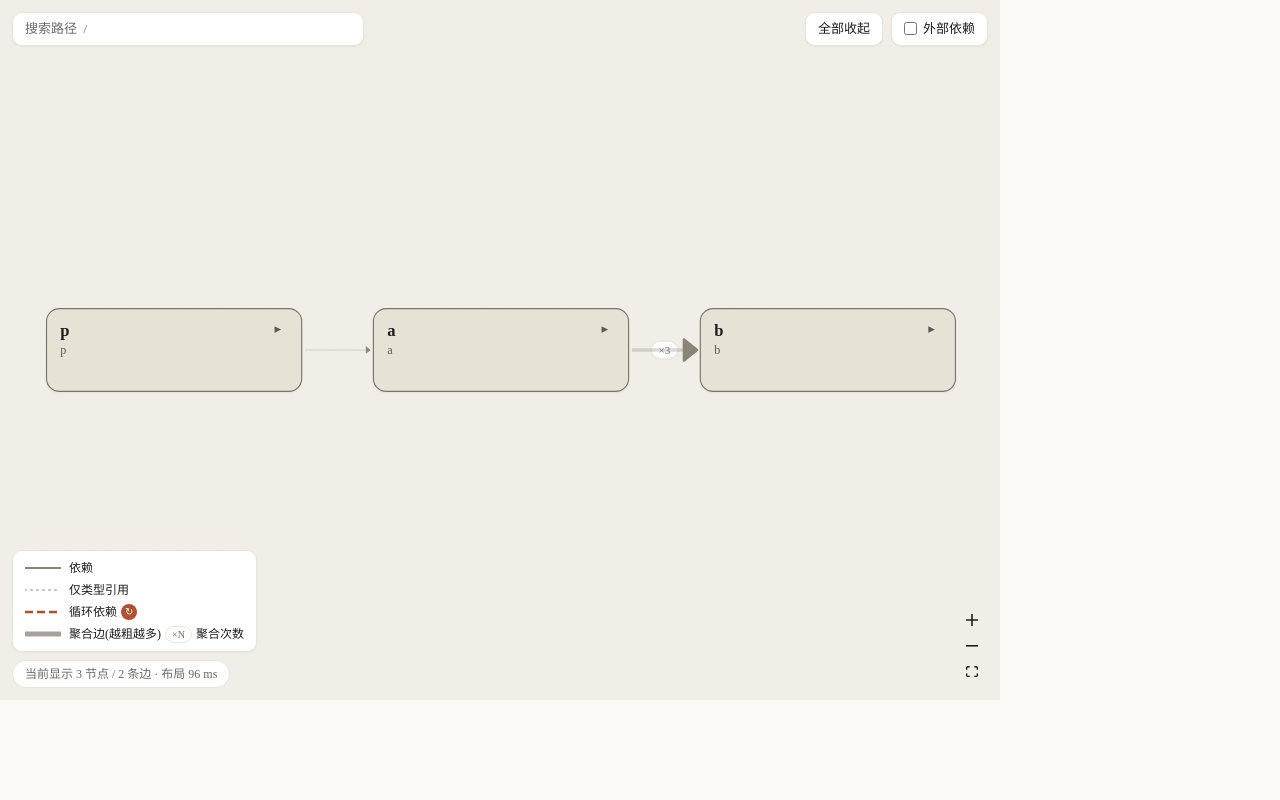
Test: <GraphView> 真实接口:聚合边、边界节点、截断提示 › 展开后用子层聚合边替代容器边;边界节点不进容器;折叠后恢复;截断提示只在该层可见时显示
Expected: the message shows "当前显示 3 节点 / 2 条边", [25, 667, 217, 681]
Expected: the element named "图例" shows "聚合次数", [196, 627, 244, 641]
Click the button named "展开 a" at x=605, y=329, box [595, 320, 615, 338]
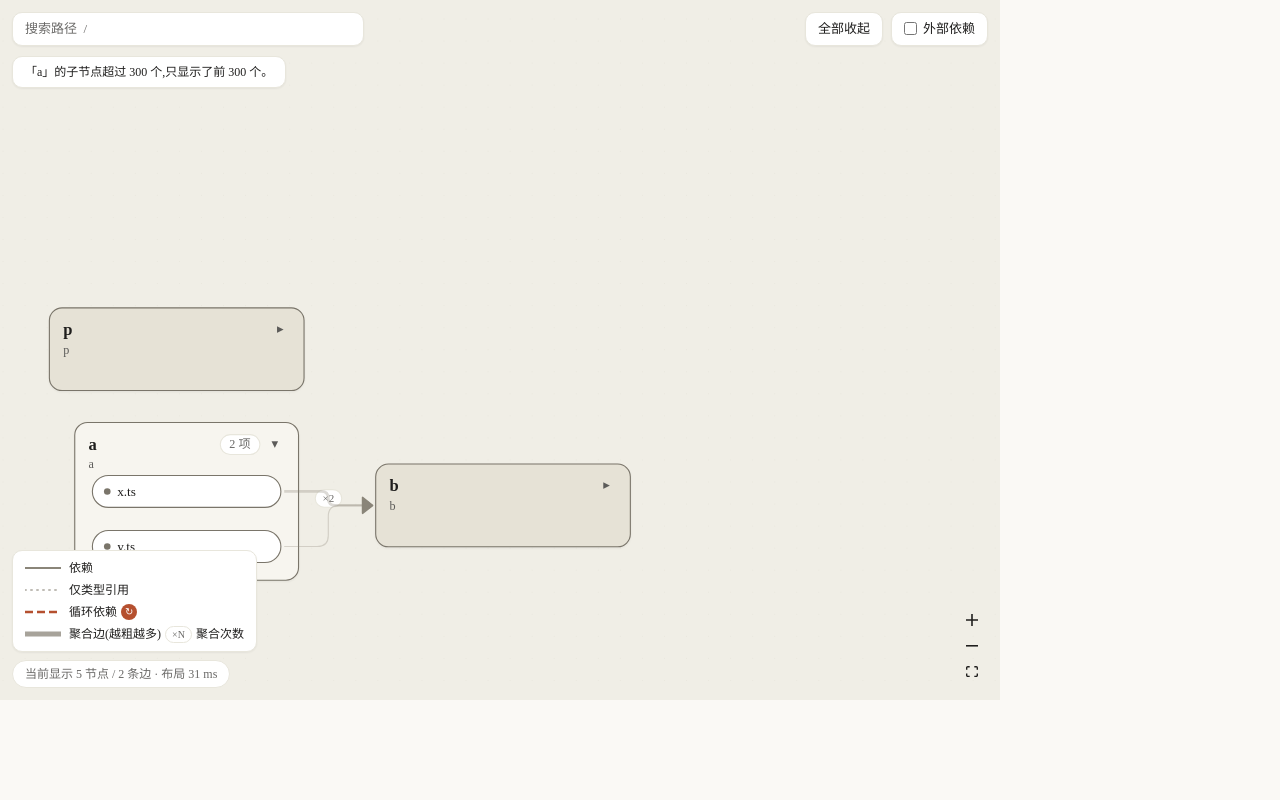
Expected: the number of elements with test id "node-m:b" is 1, [375, 464, 631, 547]
Expected: the message shows "当前显示 5 节点 / 2 条边", [25, 667, 217, 681]
Expected: the text with test id "truncated-notice" shows "「a」的子节点超过 300 个", [12, 56, 286, 88]
Click the button named "收起 a" at x=275, y=444, box [265, 436, 285, 453]
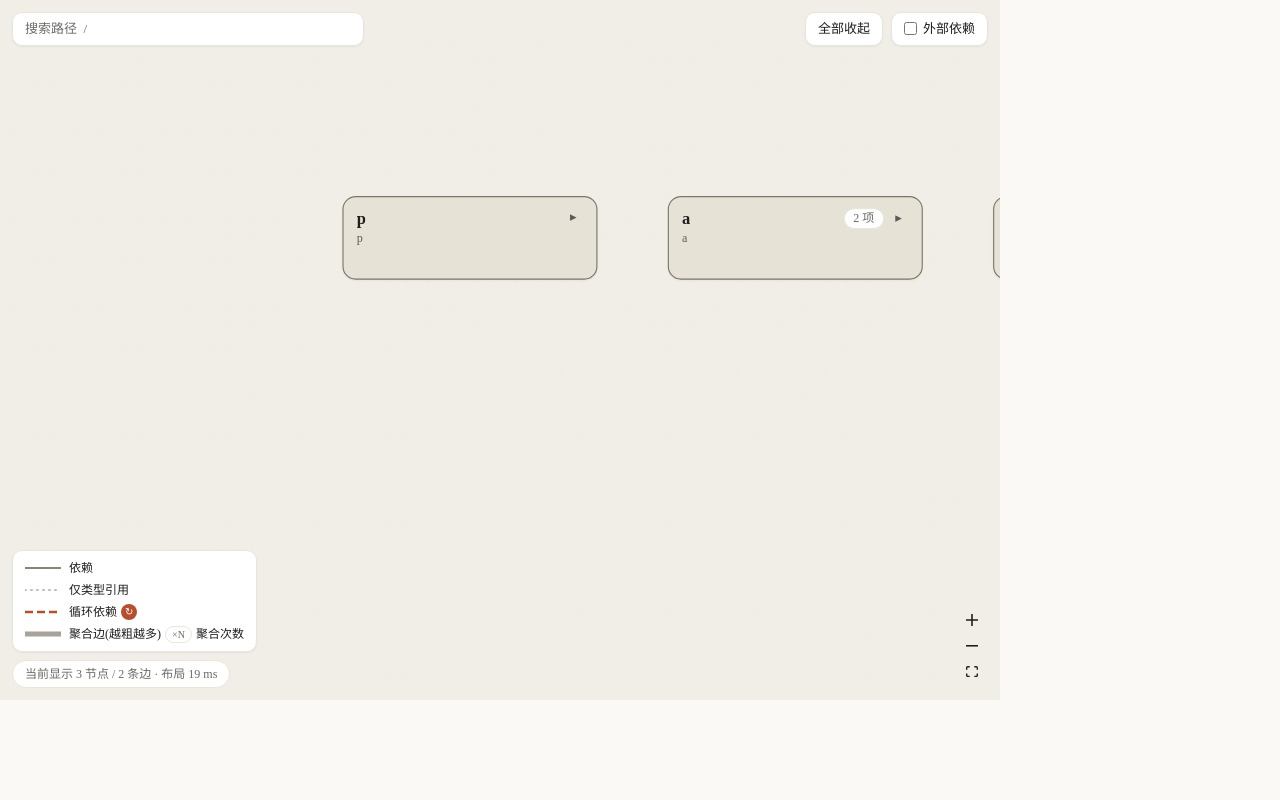
Expected: the message shows "当前显示 3 节点 / 2 条边", [25, 667, 217, 681]
Expected: the element with test id "node-f:a/x.ts" is gone
Expected: the text with test id "truncated-notice" is gone
再展开走缓存,不重复请求
Click the button named "展开 a" at x=899, y=218, box [889, 210, 908, 227]
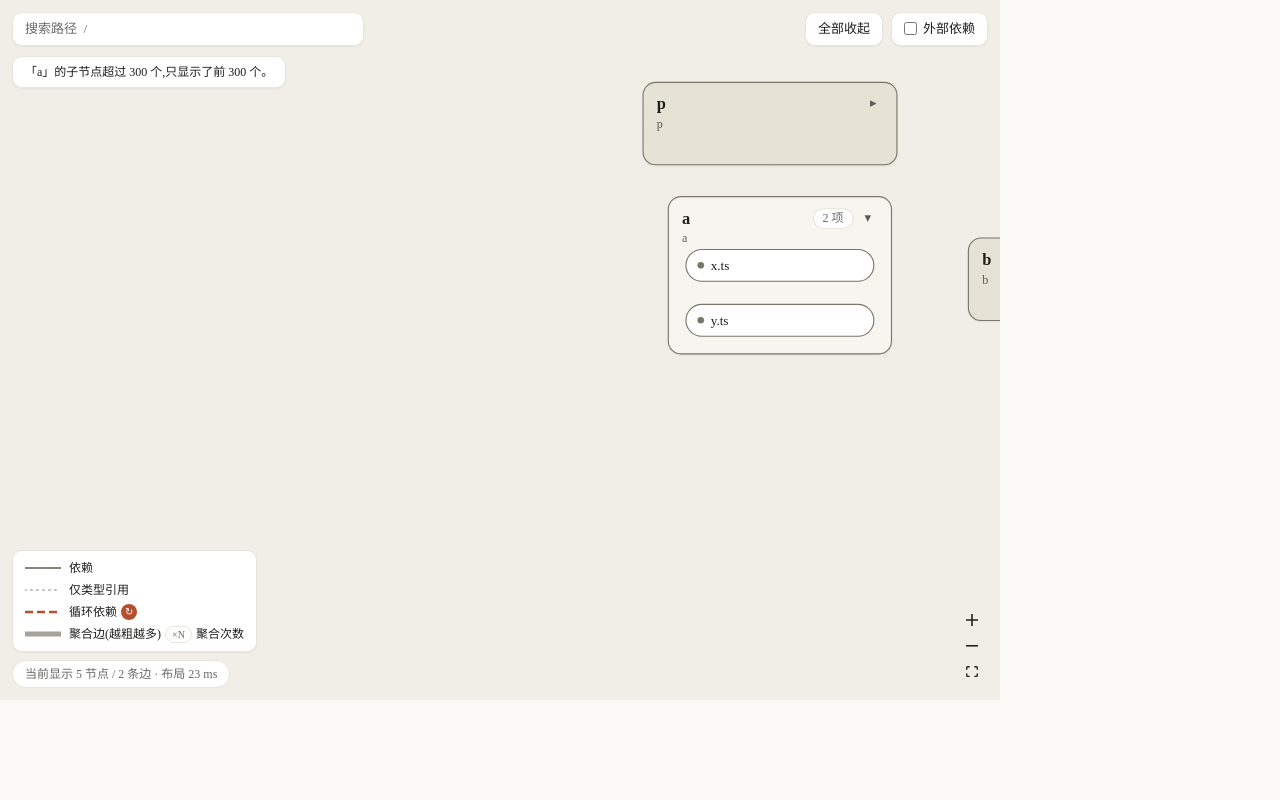
Expected: the message shows "当前显示 5 节点 / 2 条边", [25, 667, 217, 681]
